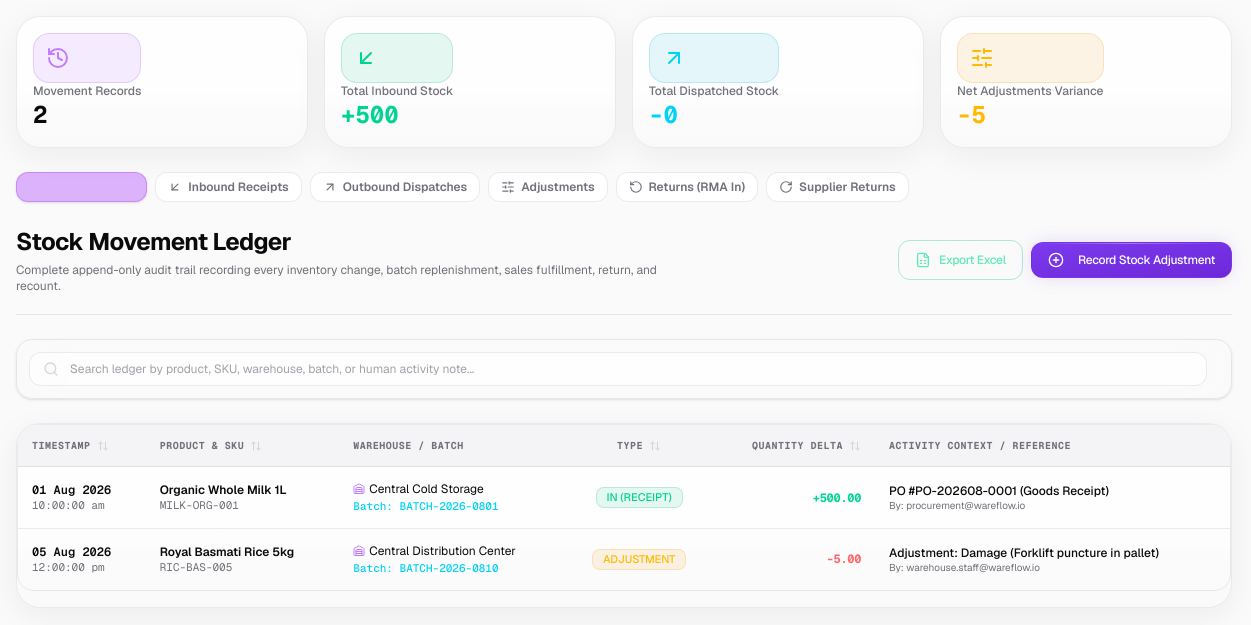
Stock Movements Ledger & Adjustments › filters ledger records by search query
The width and height of the screenshot is (1251, 625).
Replace the text in the field with placeholder "Search ledger by product" with "Rice" at coordinates (618, 369), box [29, 352, 1207, 386]
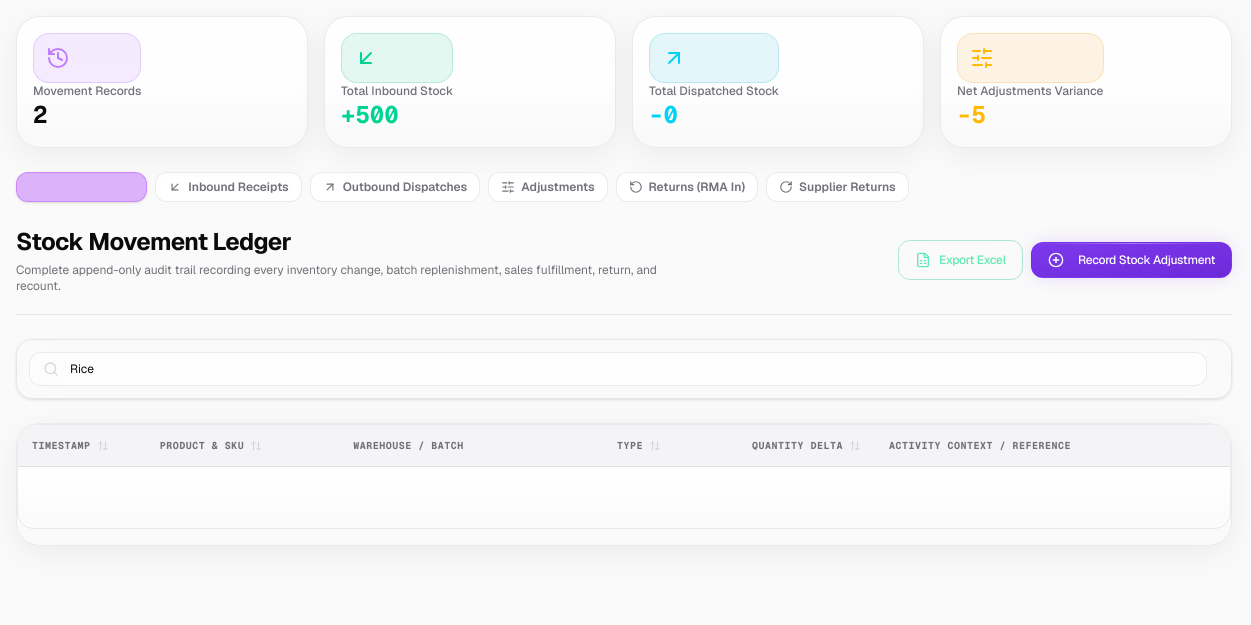
Expected: the text "Organic Whole Milk 1L" is gone
